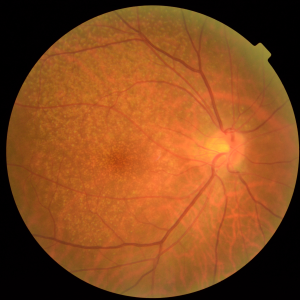retina_disease: (91, 99, 271, 207)
